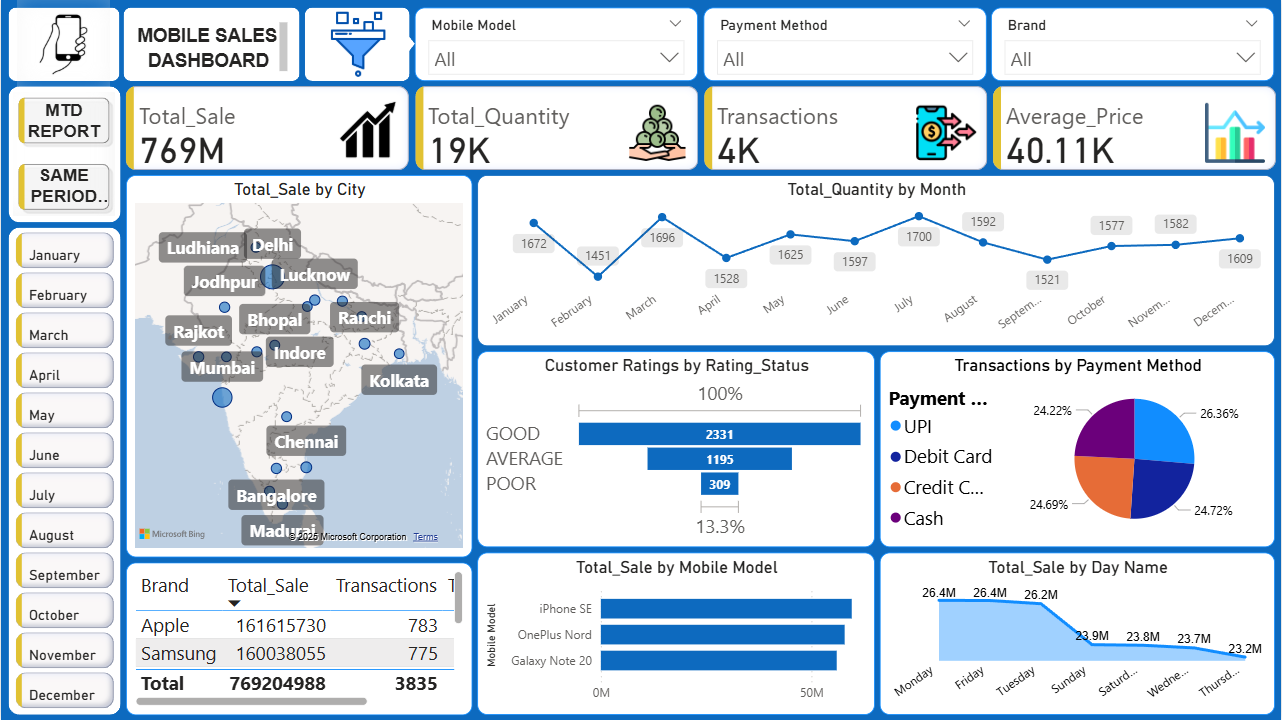

Layout of this report page (visuals, bound fields, positions):
{"tool":"powerbi","page":{"name":"DASHBOARD","canvas":[1280,720],"ordinal":0},"visuals":[{"type":"shape","box":[386.1,26.5,27.7,35],"z":0},{"type":"shape","box":[7.2,7.2,111,73.6],"z":1000},{"type":"image","box":[15.7,0,92.9,89.3],"z":2000},{"type":"shape","box":[7.2,85.7,112.2,136.3],"z":3000},{"type":"shape","box":[7.2,228,112.2,487.4],"z":4000},{"type":"advancedSlicerVisual","fields":{"Values":["Custom_Calender.Date.Variation.Date Hierarchy.Month"]},"box":[9.7,228,108.6,487.4],"z":5000},{"type":"cardVisual","fields":{"Data":["Sales_Data.Total_Sale","Sales_Data.Total_Quantity","Sales_Data.Transactions","Sales_Data.Average_Price"]},"box":[119.4,80.8,1160.6,94.1],"z":6000},{"type":"slicer","fields":{"Values":["Sales_Data.Mobile Model"]},"box":[413.8,7.2,283.5,73.6],"z":7000},{"type":"slicer","fields":{"Values":["Sales_Data.Payment Method"]},"box":[702.1,7.2,283.5,73.6],"z":8000},{"type":"slicer","fields":{"Values":["Sales_Data.Brand"]},"box":[990.5,7.2,283.5,73.6],"z":9000},{"type":"shape","box":[304,7.2,105,73.6],"z":10000},{"type":"image","box":[318.5,4.8,77.2,78.4],"z":11000},{"type":"shape","box":[123.1,7.2,176.1,73.6],"z":12000},{"type":"textbox","box":[131.5,18.1,160.5,59.1],"z":13000},{"type":"map","fields":{"Category":["Sales_Data.City"],"Size":["Sales_Data.Total_Sale"]},"box":[125,175,346.2,382.5],"z":14000},{"type":"lineChart","fields":{"Category":["Custom_Calender.Date.Variation.Date Hierarchy.Month"],"Y":["Sales_Data.Total_Quantity"]},"box":[476.2,175,797.5,171.2],"z":15000},{"type":"funnel","title":"Customer Ratings by Rating_Status","fields":{"Y":["CountNonNull(Sales_Data.Customer Ratings)"],"Category":["Sales_Data.RATING STATUS"]},"box":[476,351.2,397.5,196.2],"z":16000},{"type":"pieChart","fields":{"Y":["Sales_Data.Transactions"],"Category":["Sales_Data.Payment Method"]},"box":[878.8,351.2,395,196.2],"z":17000},{"type":"clusteredBarChart","fields":{"Y":["Sales_Data.Total_Sale"],"Category":["Sales_Data.Mobile Model"]},"box":[476,552.5,397.5,162.5],"z":18000},{"type":"areaChart","fields":{"Y":["Sales_Data.Total_Sale"],"Category":["Custom_Calender.Day Name"]},"box":[878.8,552.5,395,162.5],"z":19000},{"type":"tableEx","fields":{"Values":["Sales_Data.Brand","Sales_Data.Total_Sale","Sales_Data.Transactions","Sales_Data.Total_Quantity"]},"box":[125,562.5,346.2,152.5],"z":20000},{"type":"pageNavigator","box":[12.5,92.5,101.2,123.8],"z":21000}]}

Visuals, with their boxes in screenshot pixels (x1, y1, x2, y2), scaled from the page's 1280x720 canvas onto the 1282x720 screenshot:
shape: 387/26/414/62
shape: 7/7/118/81
image: 16/0/109/89
shape: 7/86/120/222
shape: 7/228/120/715
advancedSlicerVisual - Custom_Calender.Date.Variation.Date Hierarchy.Month: 10/228/118/715
cardVisual - Sales_Data.Total_Sale x Sales_Data.Total_Quantity: 120/81/1281/175
slicer - Sales_Data.Mobile Model: 414/7/698/81
slicer - Sales_Data.Payment Method: 703/7/987/81
slicer - Sales_Data.Brand: 992/7/1276/81
shape: 304/7/410/81
image: 319/5/396/83
shape: 123/7/300/81
textbox: 132/18/292/77
map - Sales_Data.City x Sales_Data.Total_Sale: 125/175/472/558
lineChart - Custom_Calender.Date.Variation.Date Hierarchy.Month x Sales_Data.Total_Quantity: 477/175/1276/346
"Customer Ratings by Rating_Status" funnel: 477/351/875/547
pieChart - Sales_Data.Transactions x Sales_Data.Payment Method: 880/351/1276/547
clusteredBarChart - Sales_Data.Total_Sale x Sales_Data.Mobile Model: 477/552/875/715
areaChart - Sales_Data.Total_Sale x Custom_Calender.Day Name: 880/552/1276/715
tableEx - Sales_Data.Brand x Sales_Data.Total_Sale: 125/562/472/715
pageNavigator: 13/92/114/216
